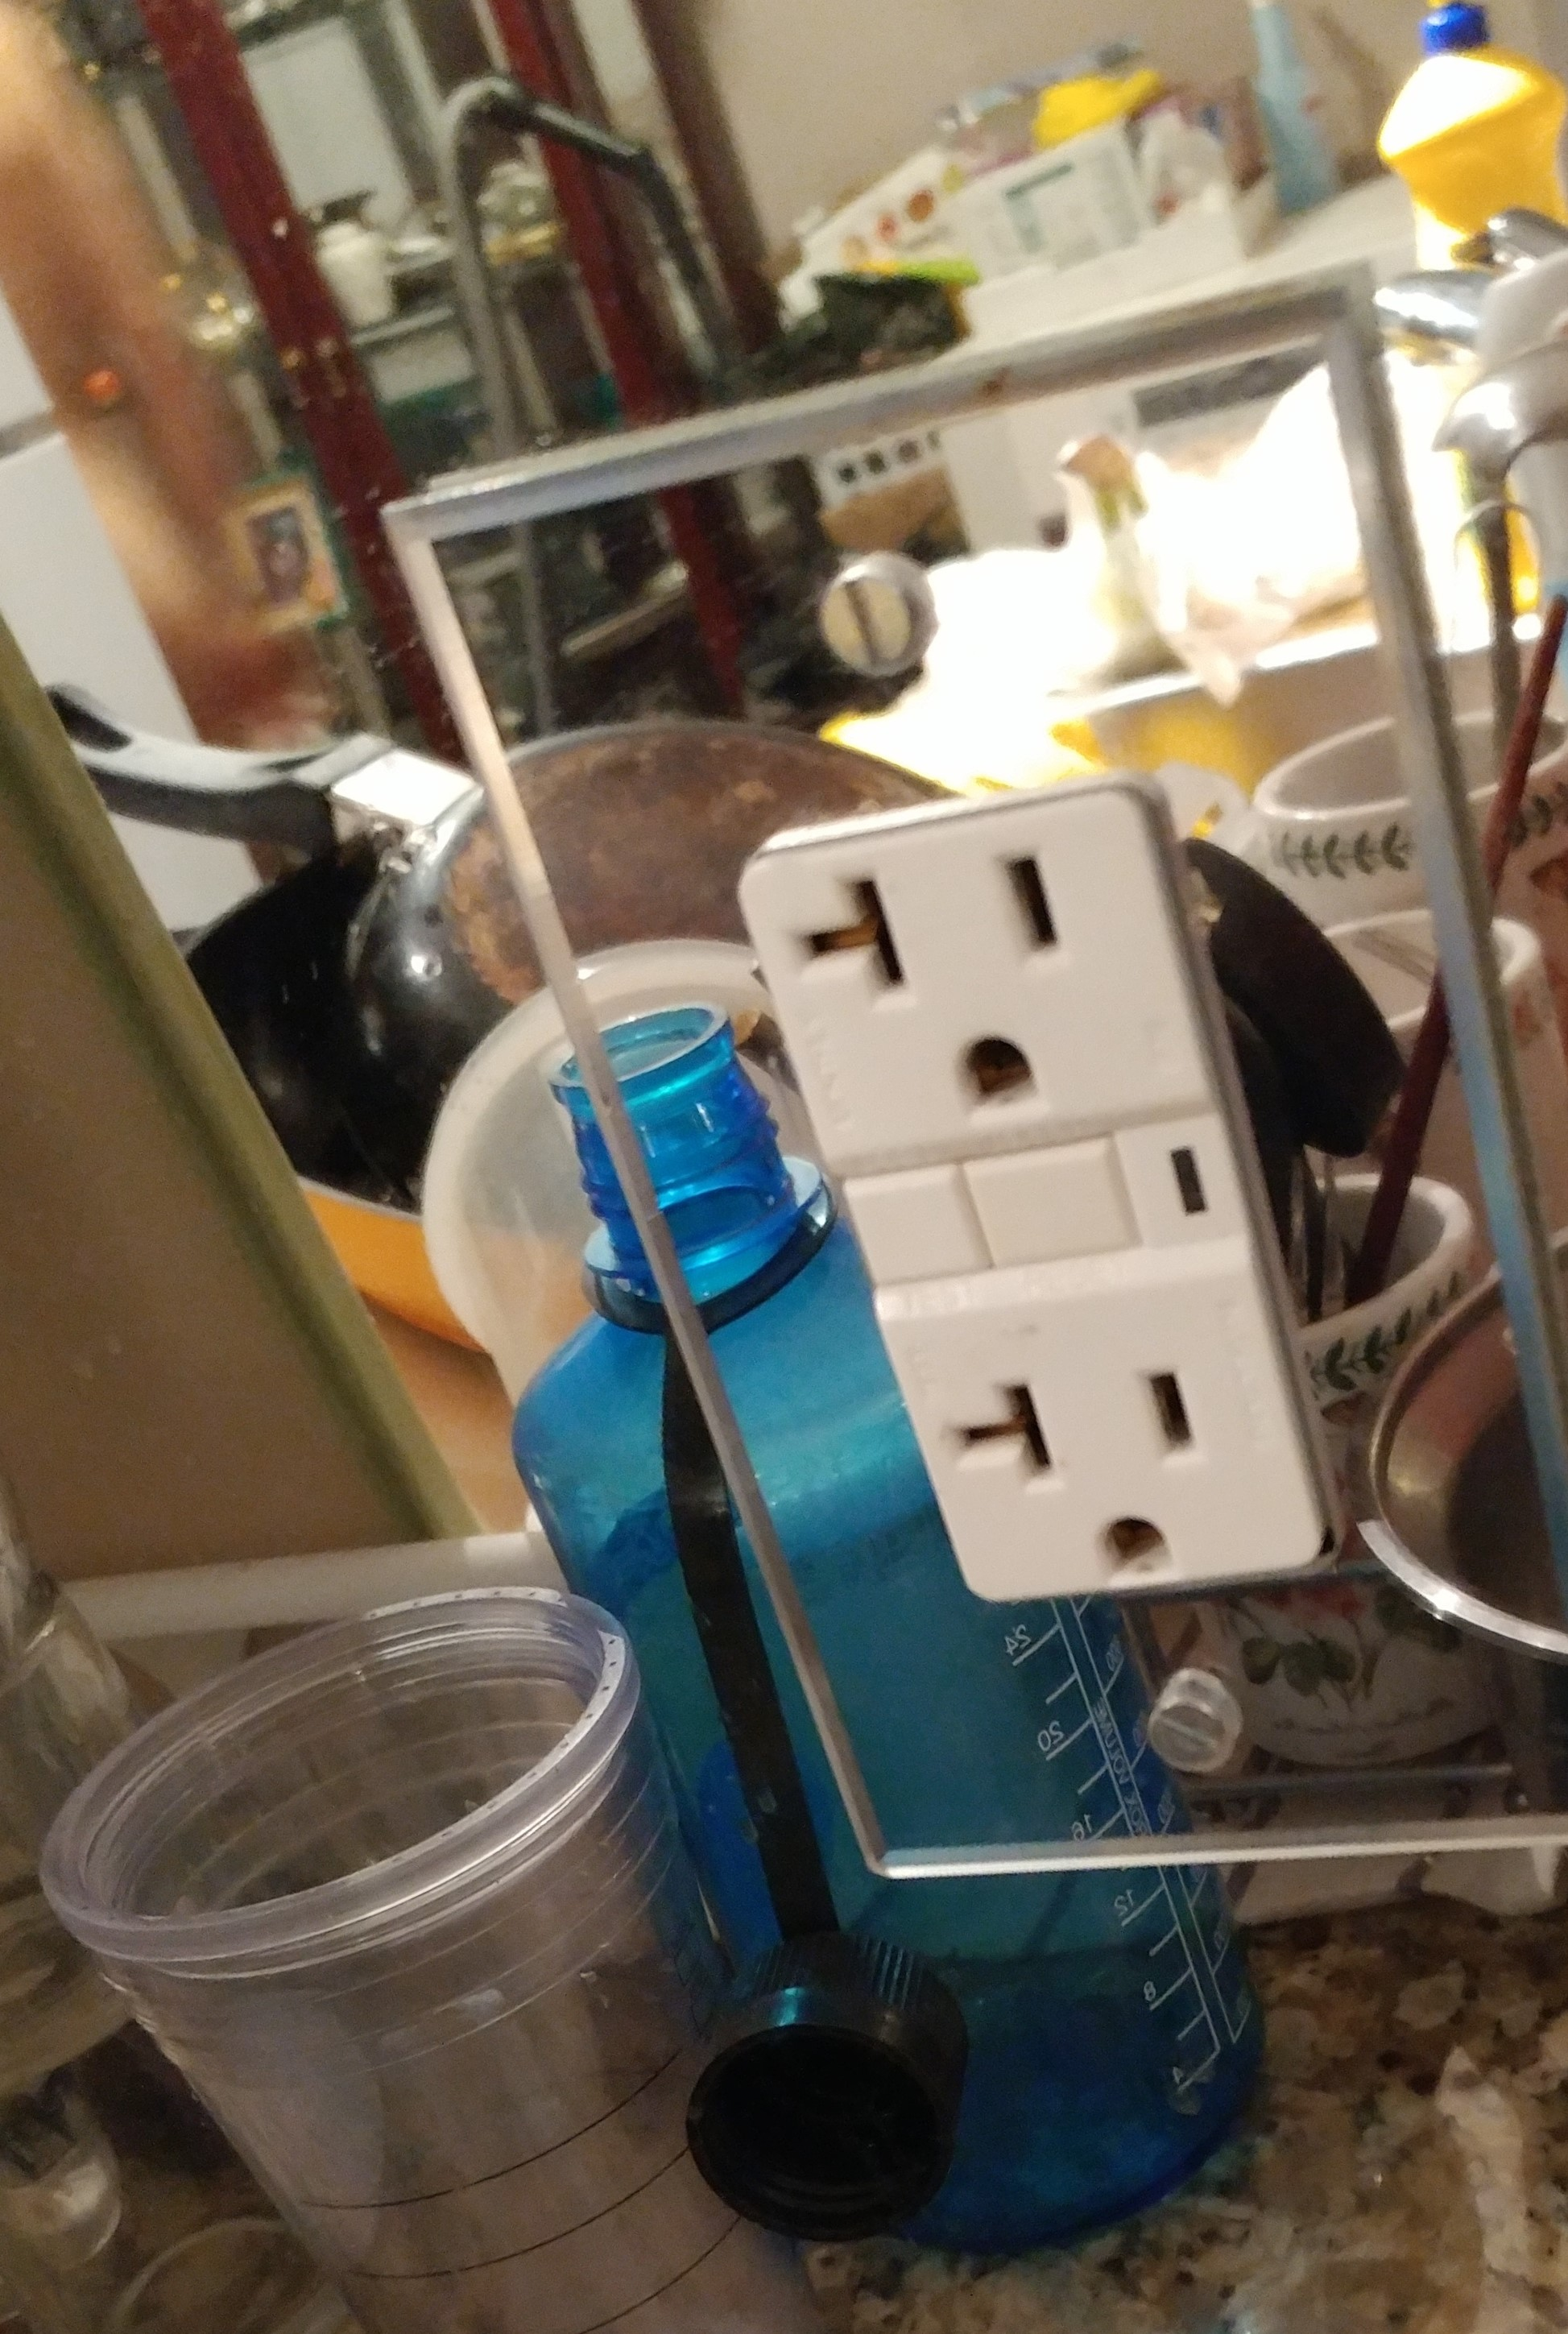outlet: (805, 801, 1094, 1130), (970, 1328, 1242, 1590)
